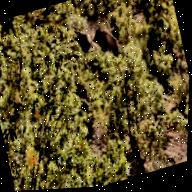boar: (93, 20, 127, 67), (71, 25, 95, 58)
